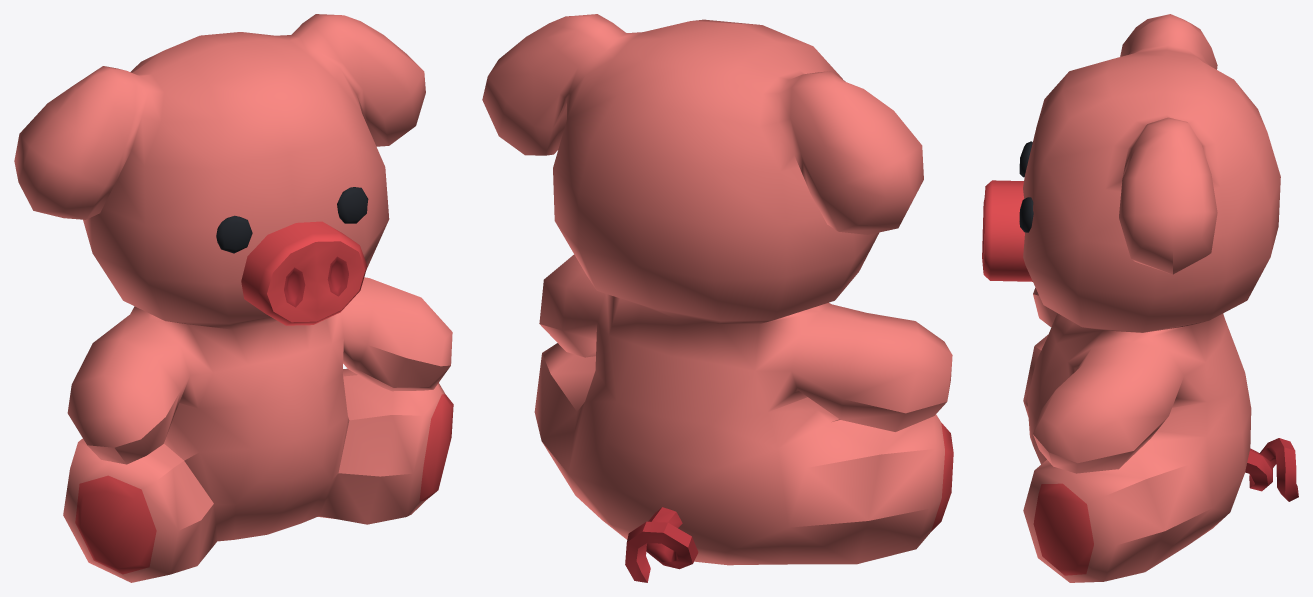
The model's file is pelucia_porco_pacote.glb.
3 renders of one model, left to right at view 1: azimuth 30°, elevation 25°; view 2: azimuth 150°, elevation 25°; view 3: azimuth 270°, elevation 25°, orthographic. The views are drawn at different scales.
Visible parts, largest first — view 1: pelucia_porco_pacote; view 2: pelucia_porco_pacote; view 3: pelucia_porco_pacote.
Boxes of the visible parts, x1=… form: pelucia_porco_pacote: x1=14, y1=14, x2=453, y2=582; pelucia_porco_pacote: x1=482, y1=14, x2=953, y2=582; pelucia_porco_pacote: x1=982, y1=14, x2=1298, y2=582.
Bounding box in the file's own units: 0.3523 × 0.4028 × 0.2534.
1 material, 1 textured.
